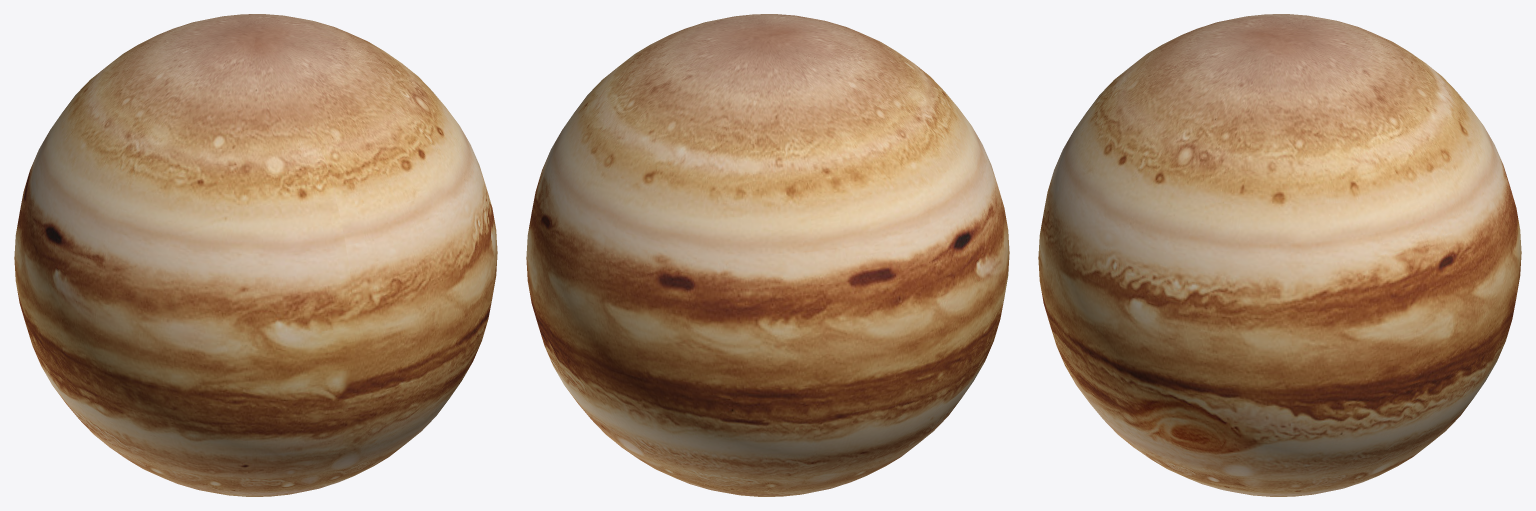
Rendered from jupiter.obj.
3 views of the same model, side by side, from view 1: azimuth 30°, elevation 25°; view 2: azimuth 150°, elevation 25°; view 3: azimuth 270°, elevation 25° (orthographic).
Visible parts, largest first — view 1: pSphere1; view 2: pSphere1; view 3: pSphere1.
Part boxes in pixels (bbox=[...]): pSphere1: bbox=[14, 14, 497, 496]; pSphere1: bbox=[526, 14, 1009, 496]; pSphere1: bbox=[1038, 14, 1521, 496].
Bounding box in the file's own units: 1.99 × 2 × 2.
1 material, 1 textured.
